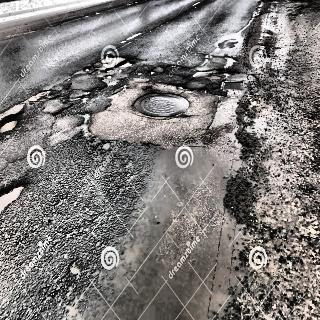pothole: (208, 72, 245, 162), (1, 105, 38, 154), (67, 105, 97, 148), (0, 177, 31, 210), (204, 47, 238, 72), (218, 14, 242, 46), (104, 132, 117, 159), (112, 59, 136, 73), (80, 60, 93, 76)
